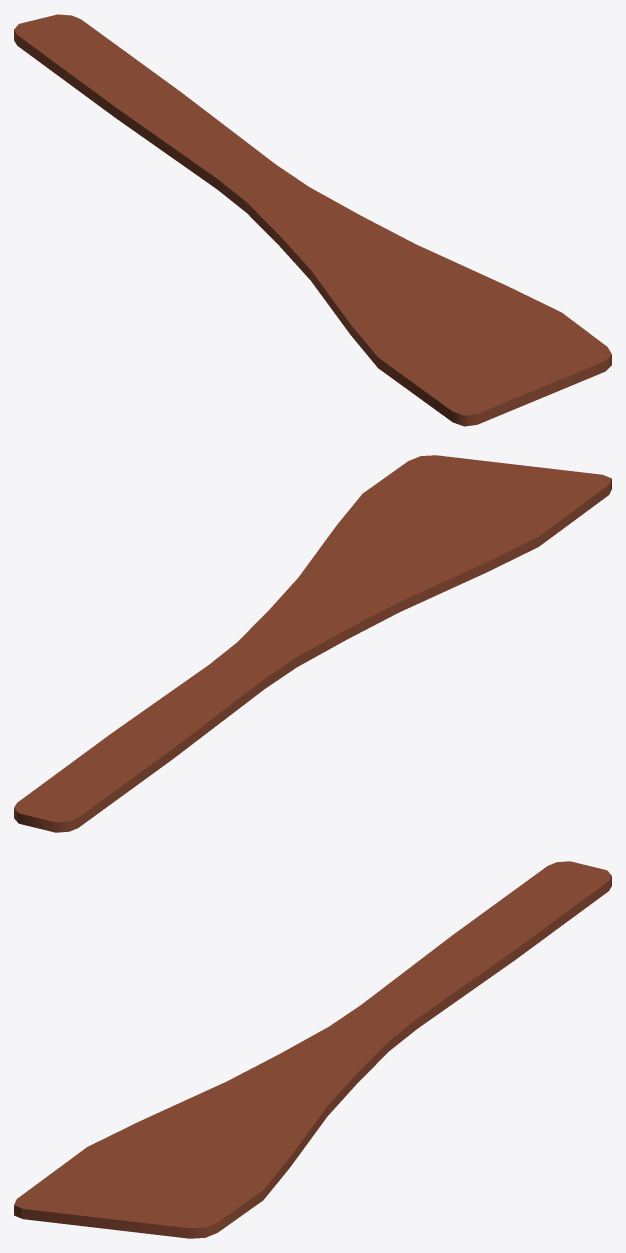
Rendered from Spatula.fbx.
3 renders of one model, top to bottom at view 1: azimuth 30°, elevation 25°; view 2: azimuth 150°, elevation 25°; view 3: azimuth 330°, elevation 25°, orthographic. The views are drawn at different scales.
Parts seen in each view (by area): view 1: WoodenSpatula_01; view 2: WoodenSpatula_01; view 3: WoodenSpatula_01.
Boxes of the visible parts, x1,y1,x2,y2 form: WoodenSpatula_01: (14,14,611,426); WoodenSpatula_01: (14,455,611,832); WoodenSpatula_01: (14,861,611,1238).
Size of the model in its own units: 6.05 by 0.3387 by 29.31.
